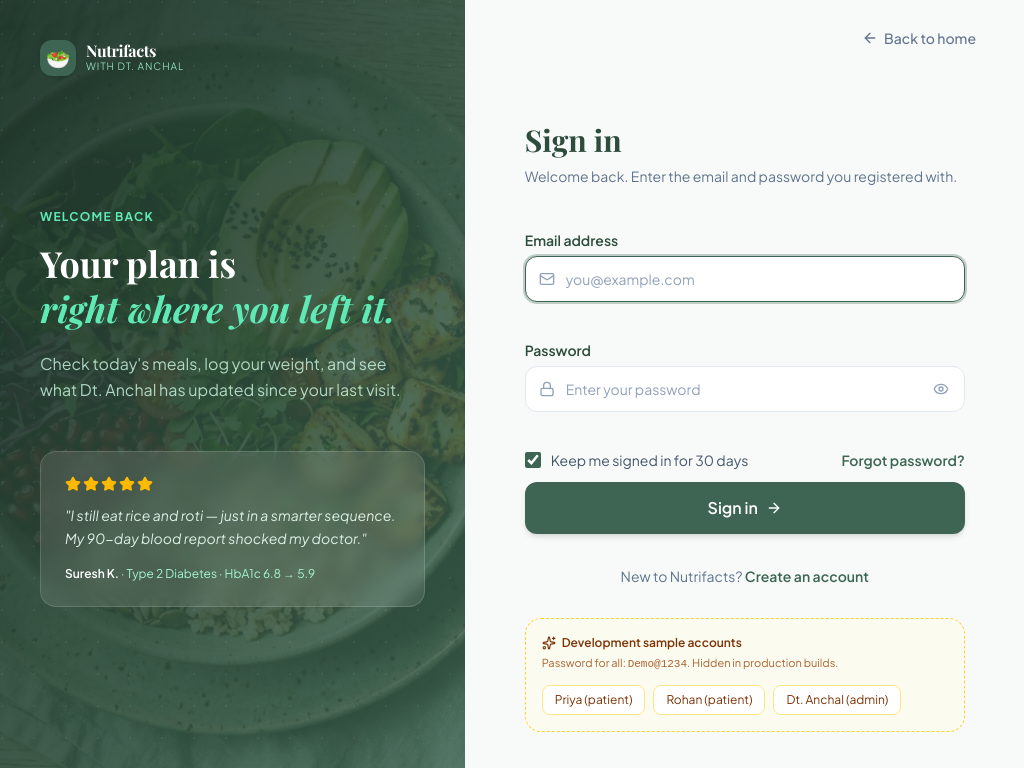
Scenario: sign-in page › signs in and returns to the "next" page
Type "priya.sharma@example.com" into the field labelled "Email address" at (745, 279), box [525, 256, 965, 302]
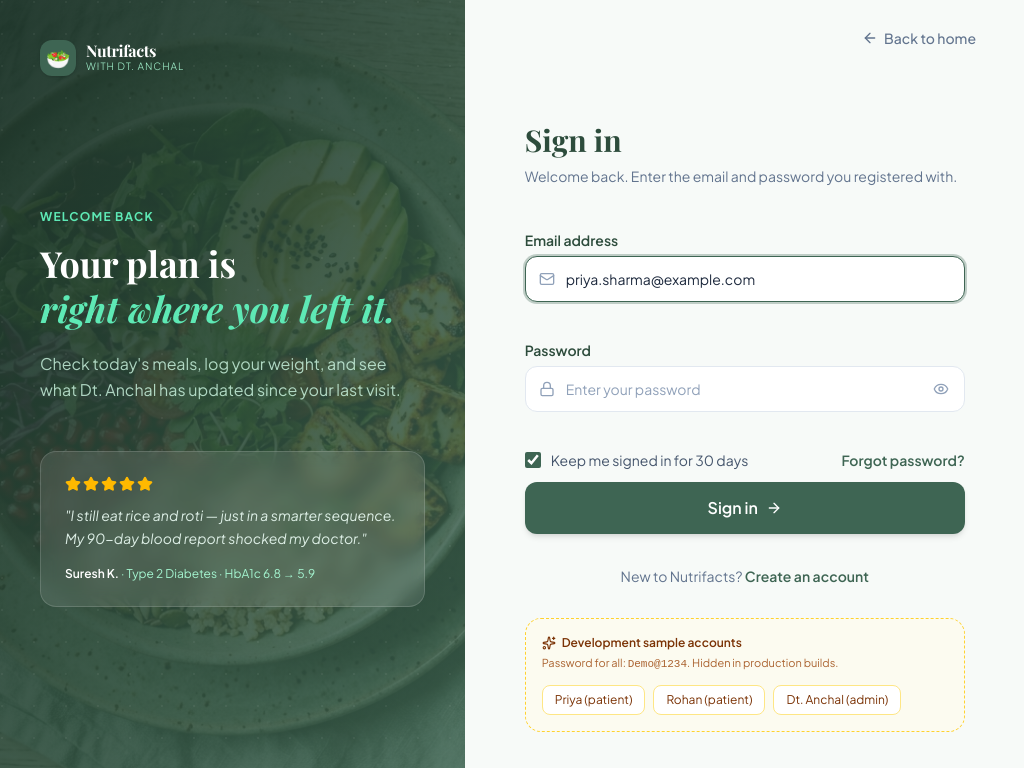
Type "Demo@1234" into the password field labelled "Password" at (745, 389), box [525, 366, 965, 412]
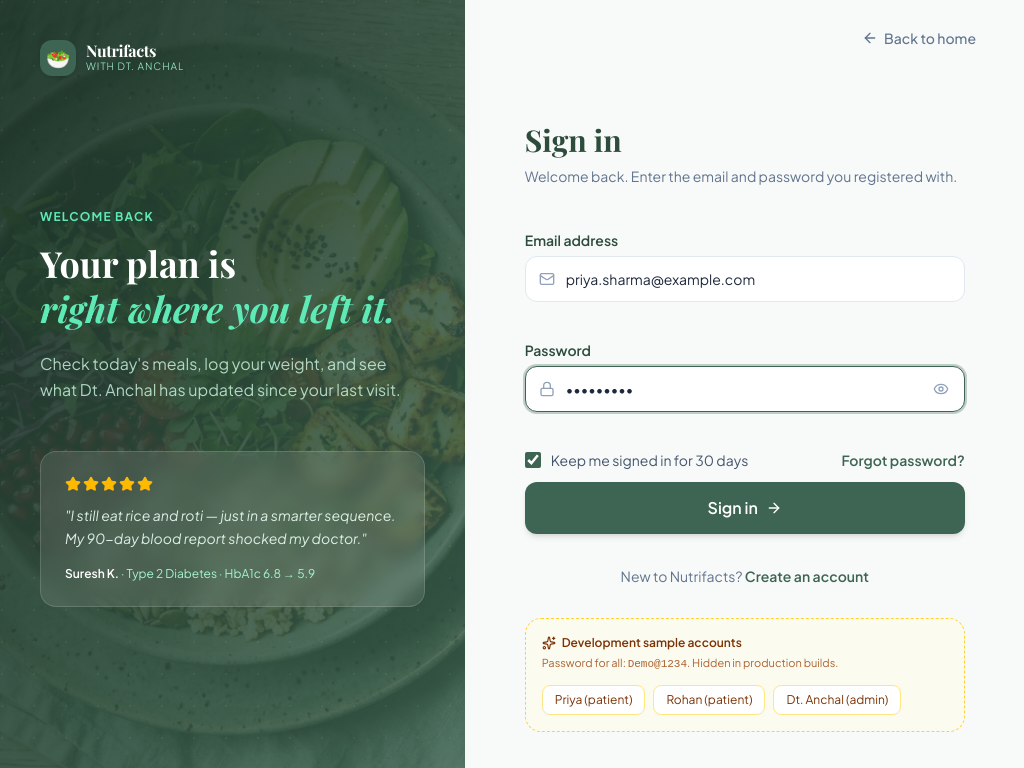
Click the button "Sign in" at (745, 508), box [525, 482, 965, 534]
(page scrolled)
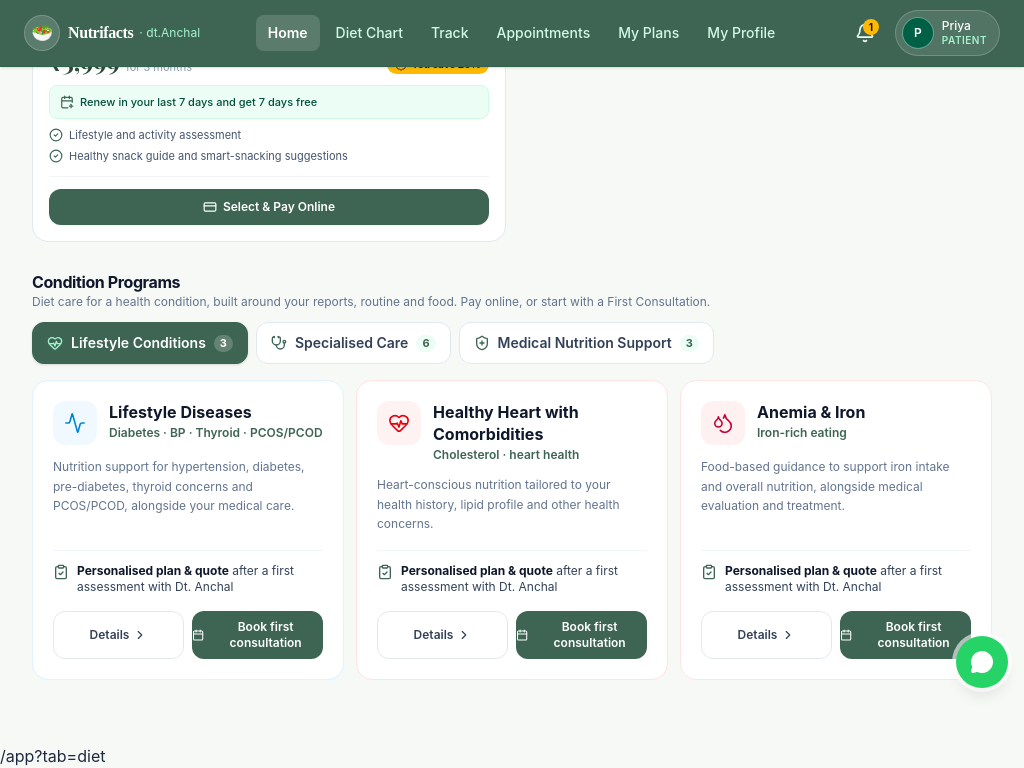
Expected: the text with test id "location" reads "/app?tab=diet", [0, 746, 105, 766]
